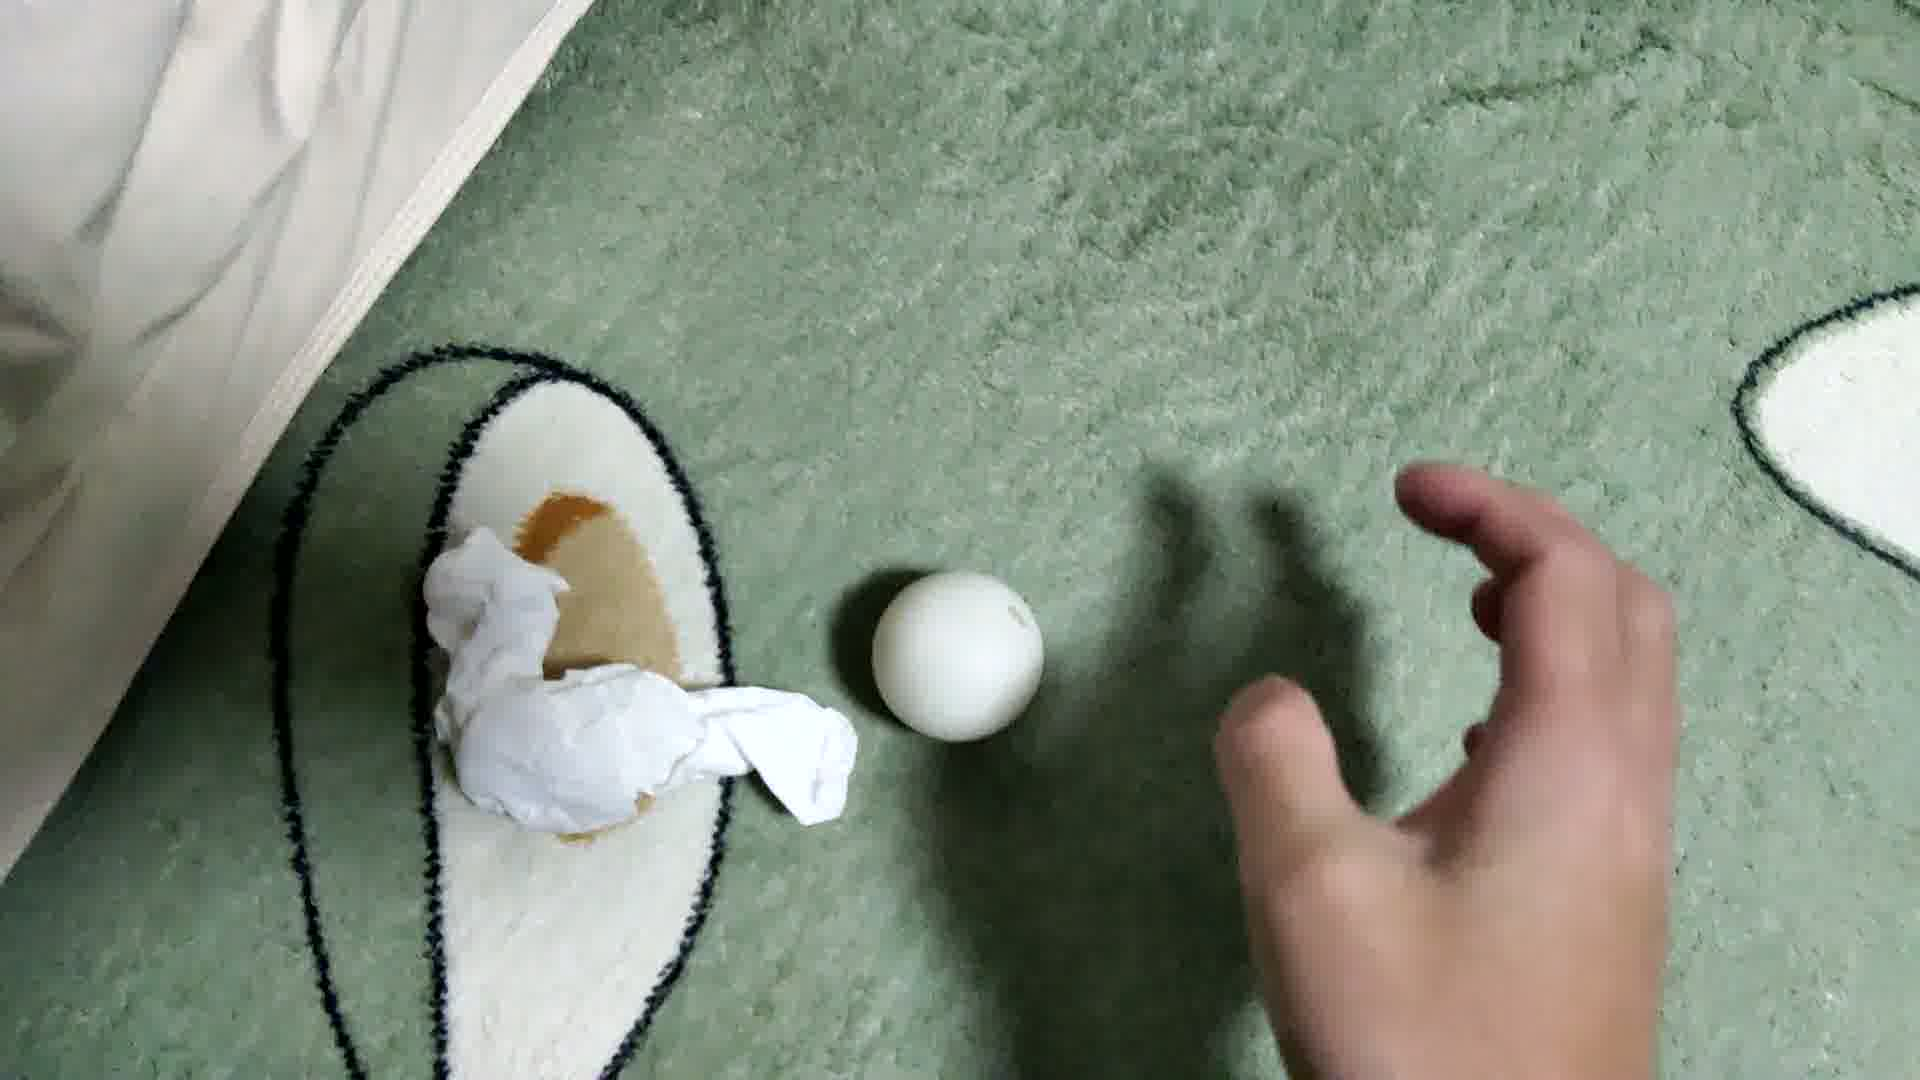Ball: (866, 571, 1038, 742)
